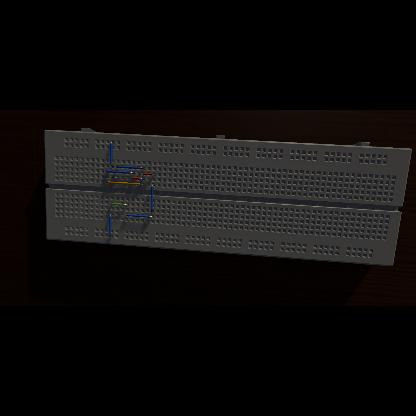breadboard: (45, 128, 412, 266)
wire: (106, 182, 144, 186), (116, 166, 144, 170), (110, 142, 114, 168), (126, 214, 152, 218), (106, 170, 134, 173), (152, 184, 154, 212), (110, 214, 112, 237), (110, 204, 127, 206), (143, 173, 155, 175), (132, 178, 144, 180), (112, 178, 119, 178)
